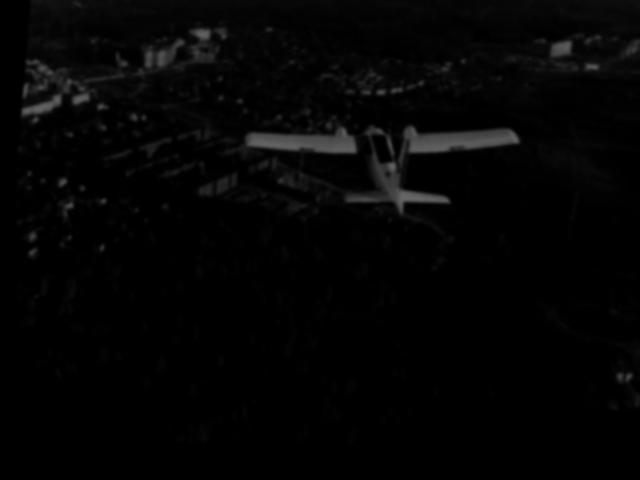hedef: (218, 91, 546, 264)
